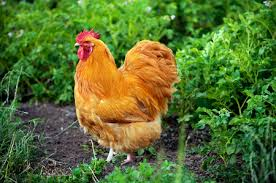buff: (62, 28, 165, 133)
